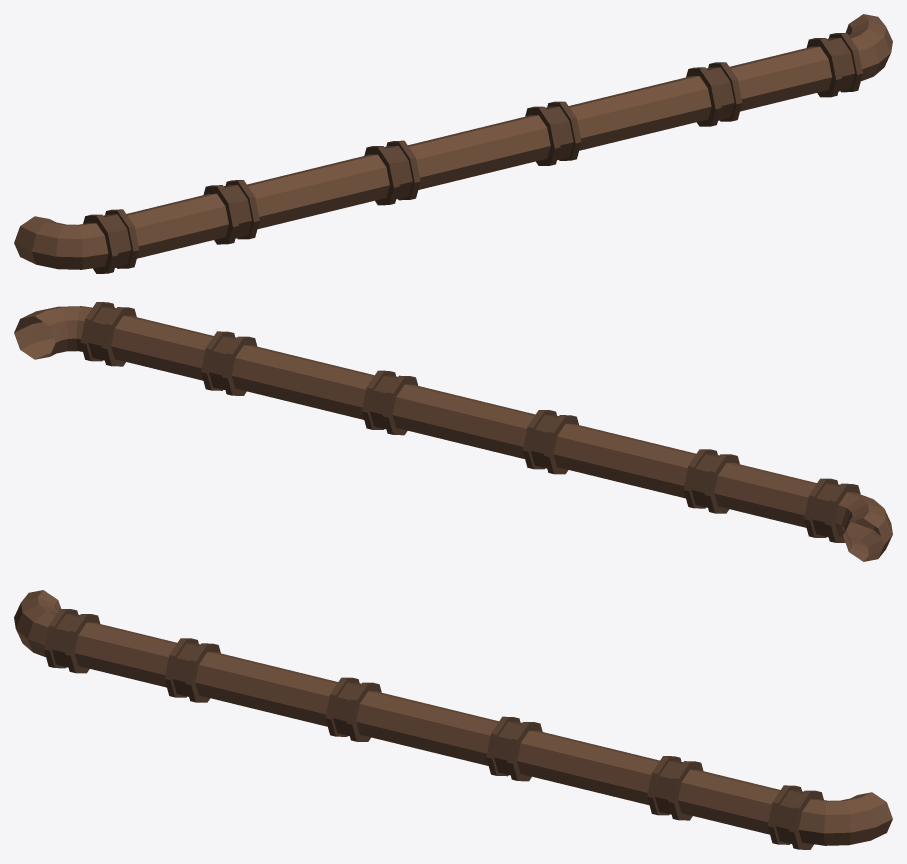
The model's file is SM_Prop_Pipes_Rusted_01.obj.
3 renders of one model, top to bottom at view 1: azimuth 30°, elevation 25°; view 2: azimuth 150°, elevation 25°; view 3: azimuth 330°, elevation 25°, orthographic.
Parts seen in each view (by area): view 1: SM_Prop_Pipes_Rusted_01_0; view 2: SM_Prop_Pipes_Rusted_01_0; view 3: SM_Prop_Pipes_Rusted_01_0.
Boxes of the visible parts, bbox=[...] form: SM_Prop_Pipes_Rusted_01_0: bbox=[14, 14, 892, 273]; SM_Prop_Pipes_Rusted_01_0: bbox=[14, 302, 892, 561]; SM_Prop_Pipes_Rusted_01_0: bbox=[14, 590, 892, 849].
Bounding box in the file's own units: 6.49 × 0.4136 × 0.4984.
Materials: 1 (1 with a texture image).
